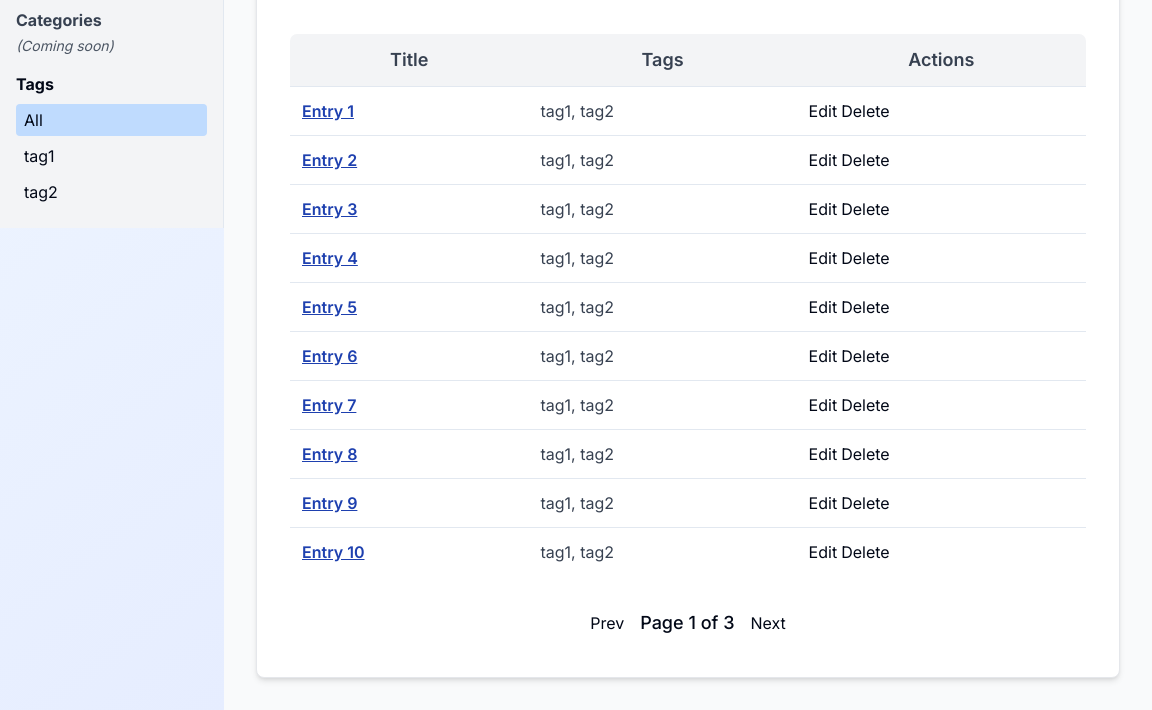
Test case: AdminWiki › AdminWiki pagination › disables Previous on first page and Next on last page
The width and height of the screenshot is (1152, 710).
(page scrolled)
Check: the text "Entry 1" is shown, box [290,86,528,136]
Check: the button "Prev" is disabled, box [590,611,624,635]
Go to last page
Click the button "Next" at [768, 623], box [750,611,786,635]
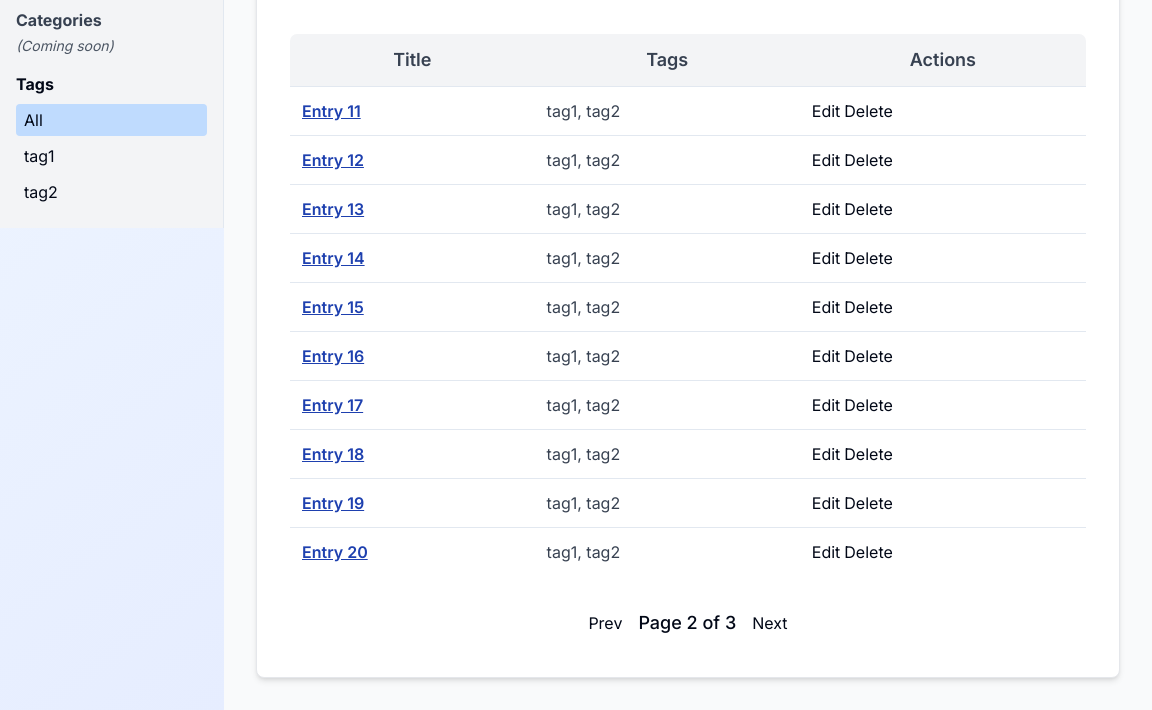
Check: the text "Entry 11" is shown, box [290,86,535,136]
Click the button "Next" at [770, 623], box [752,611,788,635]
(page scrolled)
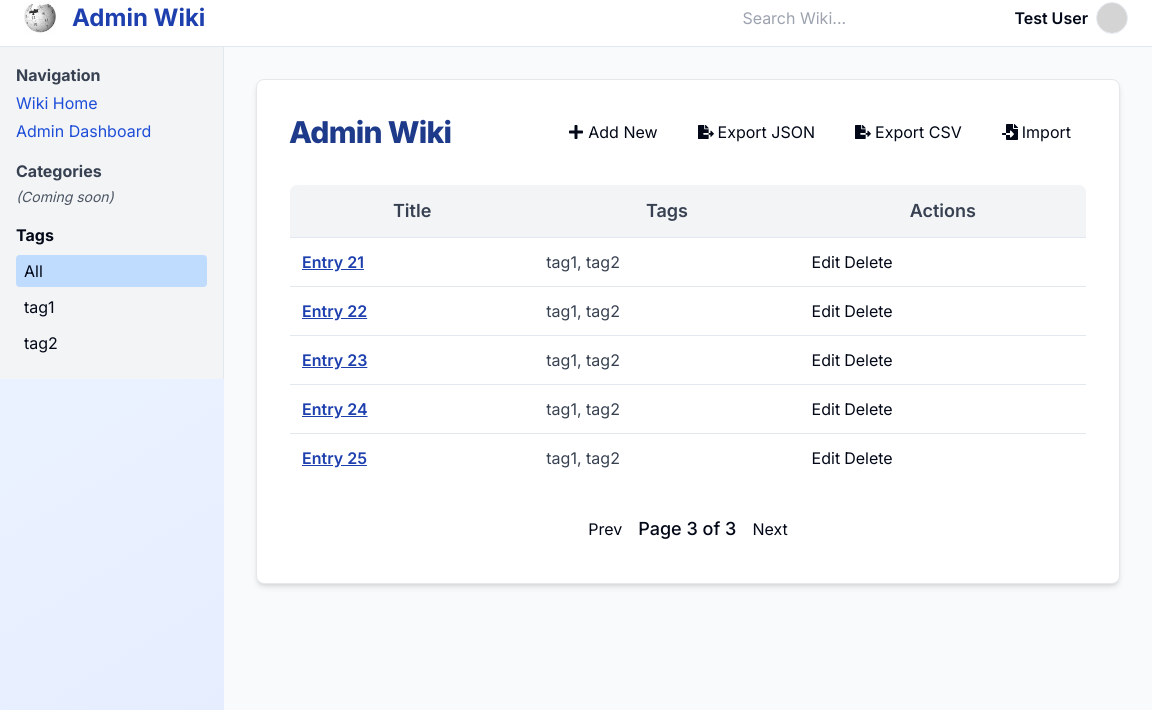
Check: the text "Entry 25" is shown, box [290,434,534,482]
Check: the button "Next" is disabled, box [752,517,788,541]
